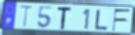1: (82, 8, 91, 30)
5: (37, 6, 55, 30)
F: (111, 9, 131, 32)
L: (94, 9, 109, 31)
T: (57, 7, 74, 31), (19, 5, 35, 29)
